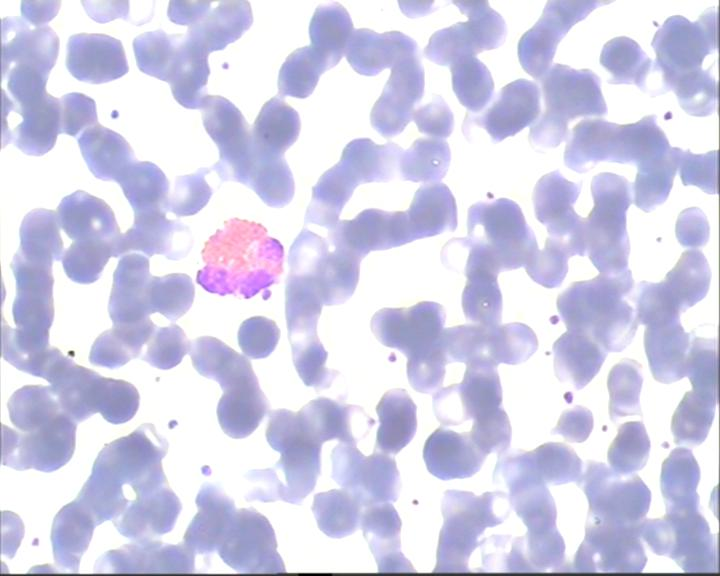eosi: (190, 217, 290, 301)
